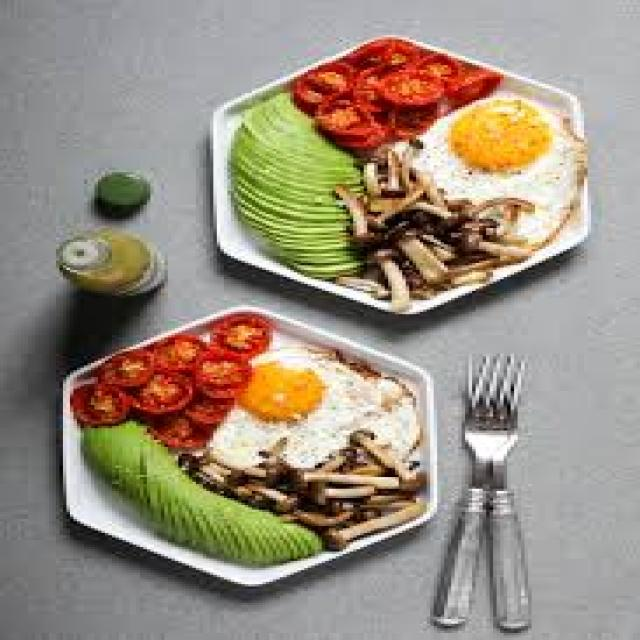Egg: (207, 335, 421, 469), (411, 91, 586, 247)
